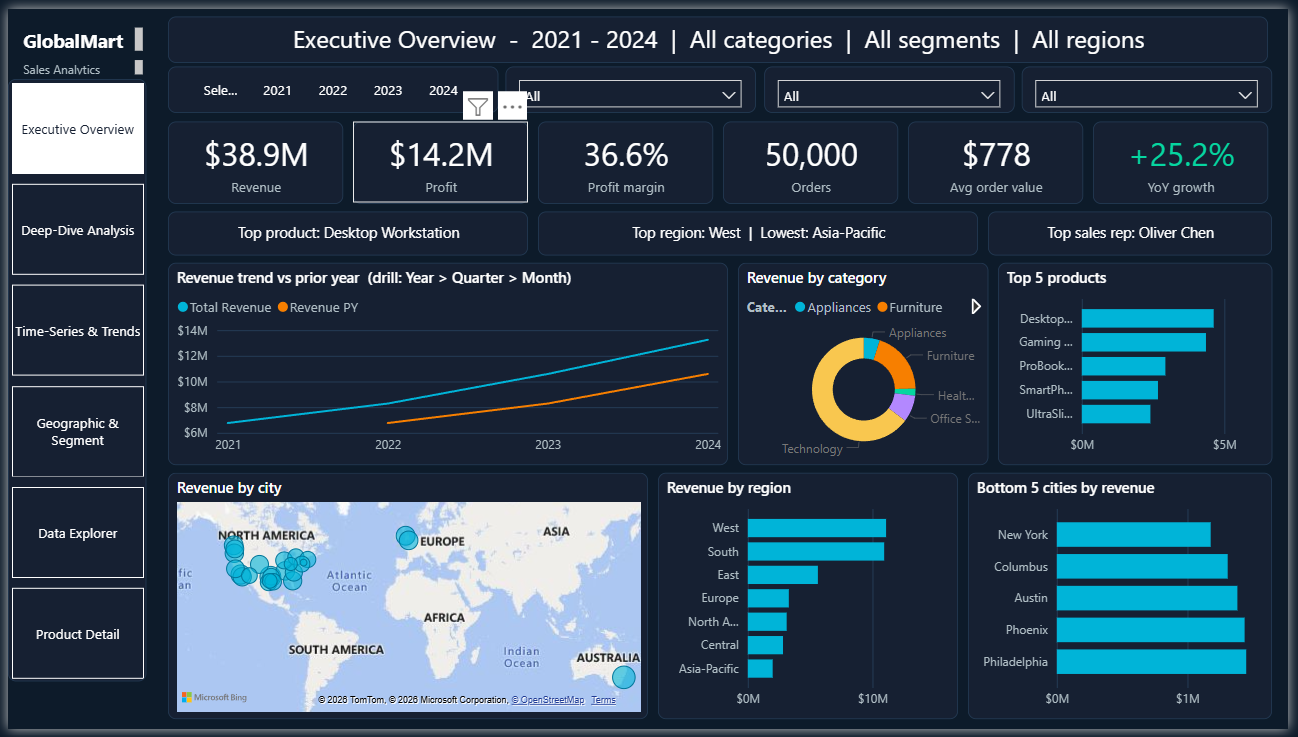

The dashboard page shown, as its layout file describes it:
{"tool":"powerbi","page":{"name":"Executive Overview","canvas":[1280,720],"ordinal":0},"visuals":[{"type":"textbox","box":[10,14,130,34],"z":200},{"type":"textbox","box":[10,46,130,24],"z":300},{"type":"card","fields":{"Values":["_Measures.Overview Title"]},"box":[160,8,1100,46],"z":500},{"type":"slicer","fields":{"Values":["DimDate.Year"]},"box":[160,58,330,46],"z":600},{"type":"slicer","fields":{"Values":["DimProduct.Category"]},"box":[498,58,250,46],"z":700},{"type":"slicer","fields":{"Values":["DimCustomer.Segment"]},"box":[756,58,250,46],"z":800},{"type":"slicer","fields":{"Values":["DimRegion.Region"]},"box":[1014,58,250,46],"z":900},{"type":"card","fields":{"Values":["_Measures.Total Revenue (M)"]},"box":[160,112,175,82],"z":1000},{"type":"card","fields":{"Values":["_Measures.Total Profit (M)"]},"box":[345,112,175,82],"z":1100},{"type":"card","fields":{"Values":["_Measures.Profit Margin %"]},"box":[530,112,175,82],"z":1200},{"type":"card","fields":{"Values":["_Measures.Total Orders"]},"box":[715,112,175,82],"z":1300},{"type":"card","fields":{"Values":["_Measures.Avg Order Value"]},"box":[900,112,175,82],"z":1400},{"type":"card","fields":{"Values":["_Measures.YoY Growth %"]},"box":[1085,112,175,82],"z":1500},{"type":"card","fields":{"Values":["_Measures.Top Product Label"]},"box":[160,202,360,44],"z":1600},{"type":"card","fields":{"Values":["_Measures.Top Region Label"]},"box":[530,202,440,44],"z":1700},{"type":"card","fields":{"Values":["_Measures.Top Rep Label"]},"box":[980,202,284,44],"z":1800},{"type":"lineChart","title":"Revenue trend vs prior year  (drill: Year > Quarter > Month)","fields":{"Category":["DimDate.Year","DimDate.Quarter","DimDate.MonthName"],"Y":["_Measures.Total Revenue","_Measures.Revenue PY"]},"box":[160,254,560,202],"z":1900},{"type":"donutChart","title":"Revenue by category","fields":{"Category":["DimProduct.Category"],"Y":["_Measures.Total Revenue"]},"box":[730,254,250,202],"z":2000},{"type":"clusteredBarChart","title":"Top 5 products","fields":{"Category":["DimProduct.ProductName"],"Y":["_Measures.Total Revenue"]},"box":[990,254,274,202],"z":2100},{"type":"map","title":"Revenue by city","fields":{"X":["DimRegion.Longitude"],"Y":["DimRegion.Latitude"],"Size":["_Measures.Total Revenue"]},"box":[160,464,480,246],"z":2200},{"type":"clusteredBarChart","title":"Revenue by region","fields":{"Category":["DimRegion.Region"],"Y":["_Measures.Total Revenue"]},"box":[650,464,300,246],"z":2300},{"type":"clusteredBarChart","title":"Bottom 5 cities by revenue","fields":{"Category":["DimRegion.City"],"Y":["_Measures.Total Revenue"]},"box":[960,464,304,246],"z":2400},{"type":"pageNavigator","box":[0,70.2,138.1,602.4],"z":2401}]}

Visuals, with their boxes on the page's 1280x720 design canvas (x1, y1, x2, y2). These are canvas units, not pixel positions in the 1298x737 screenshot, which may show the page scaled, cropped or inside an application window:
textbox: select_region(10, 14, 140, 48)
textbox: select_region(10, 46, 140, 70)
card - _Measures.Overview Title: select_region(160, 8, 1260, 54)
slicer - DimDate.Year: select_region(160, 58, 490, 104)
slicer - DimProduct.Category: select_region(498, 58, 748, 104)
slicer - DimCustomer.Segment: select_region(756, 58, 1006, 104)
slicer - DimRegion.Region: select_region(1014, 58, 1264, 104)
card - _Measures.Total Revenue (M): select_region(160, 112, 335, 194)
card - _Measures.Total Profit (M): select_region(345, 112, 520, 194)
card - _Measures.Profit Margin %: select_region(530, 112, 705, 194)
card - _Measures.Total Orders: select_region(715, 112, 890, 194)
card - _Measures.Avg Order Value: select_region(900, 112, 1075, 194)
card - _Measures.YoY Growth %: select_region(1085, 112, 1260, 194)
card - _Measures.Top Product Label: select_region(160, 202, 520, 246)
card - _Measures.Top Region Label: select_region(530, 202, 970, 246)
card - _Measures.Top Rep Label: select_region(980, 202, 1264, 246)
"Revenue trend vs prior year  (drill: Year > Quarter > Month)" lineChart: select_region(160, 254, 720, 456)
"Revenue by category" donutChart: select_region(730, 254, 980, 456)
"Top 5 products" clusteredBarChart: select_region(990, 254, 1264, 456)
"Revenue by city" map: select_region(160, 464, 640, 710)
"Revenue by region" clusteredBarChart: select_region(650, 464, 950, 710)
"Bottom 5 cities by revenue" clusteredBarChart: select_region(960, 464, 1264, 710)
pageNavigator: select_region(0, 70, 138, 673)
